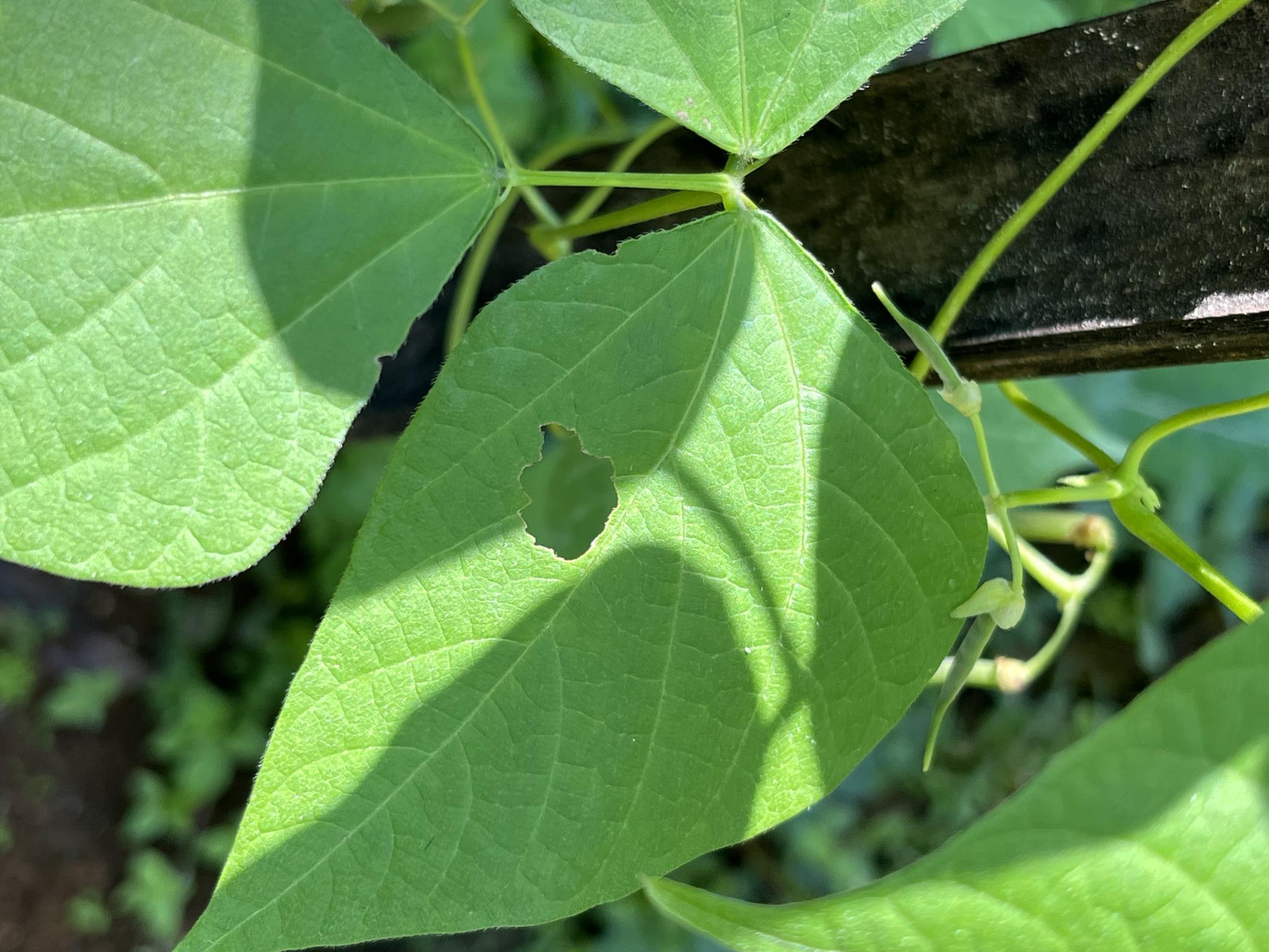mozaik: (512, 429, 625, 554)
